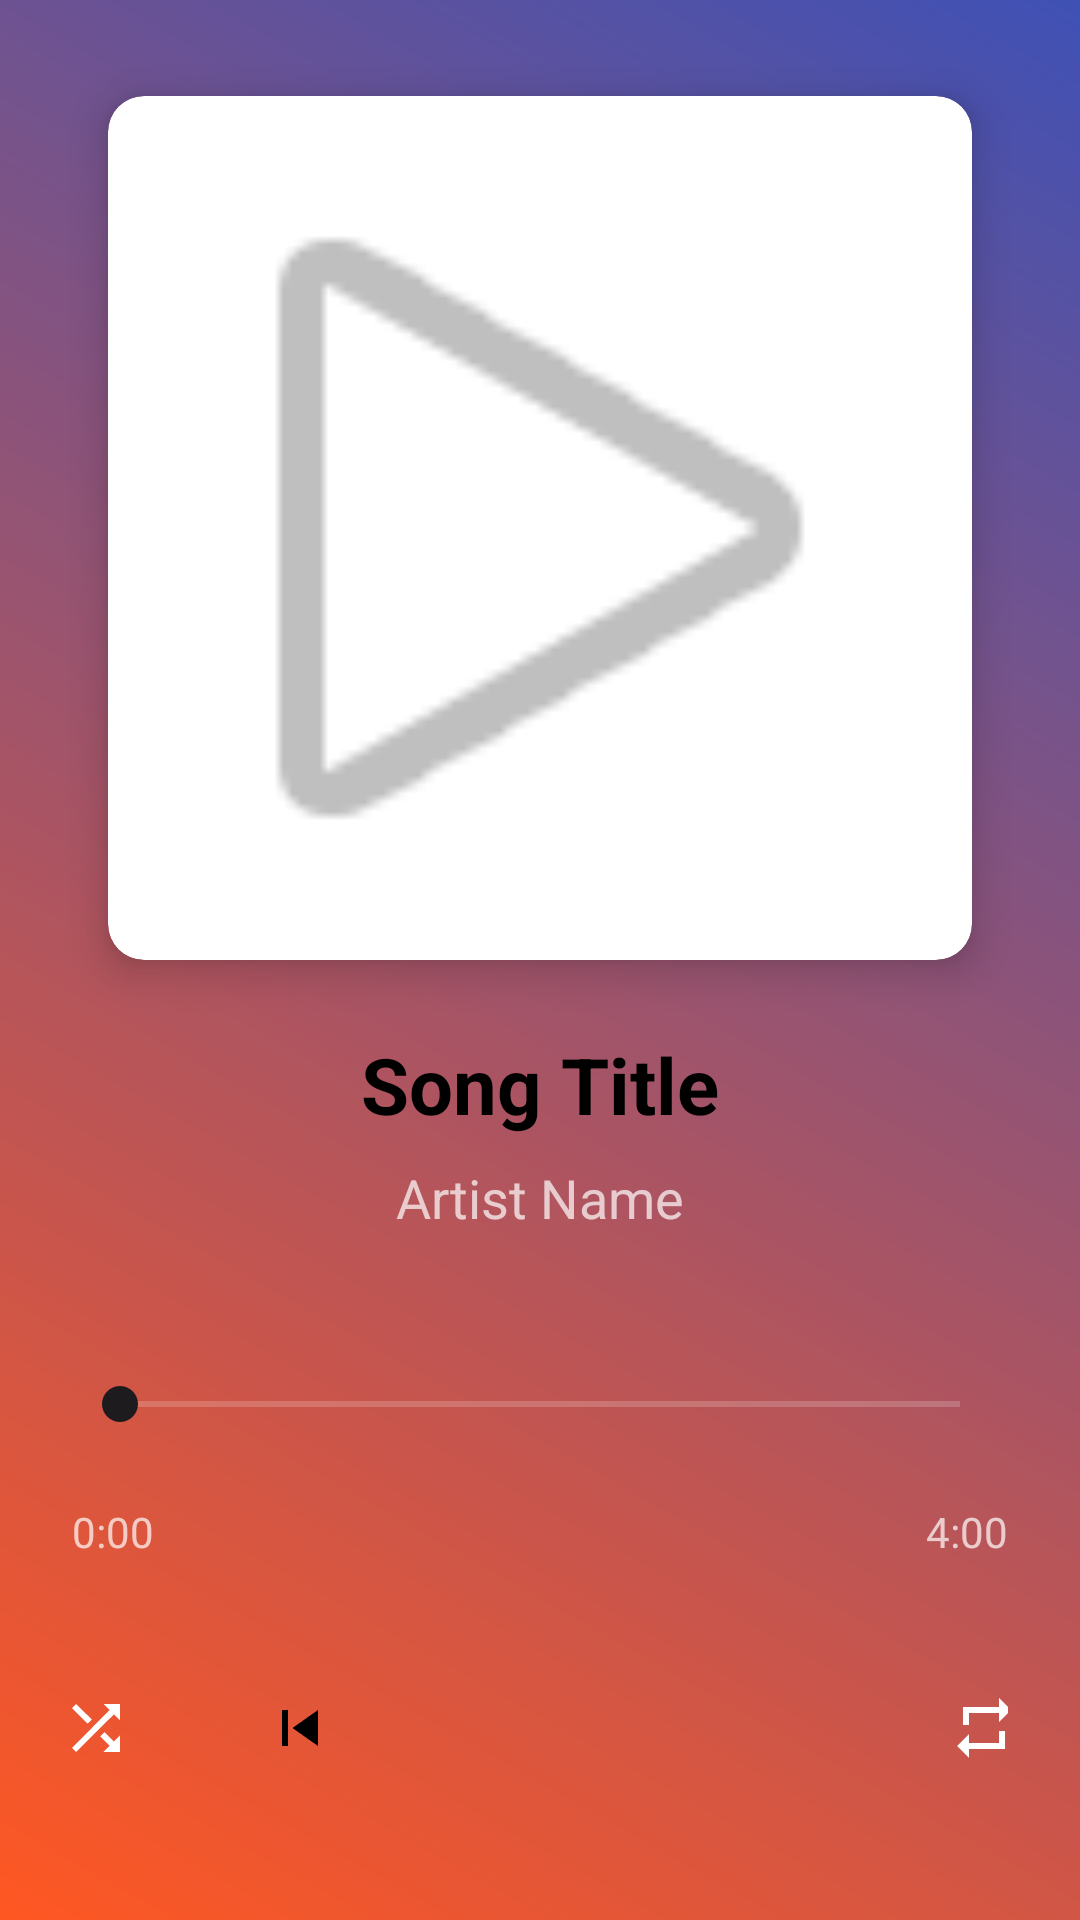

Icon click points for this 1080×1920 phone screenshot, format (x=x, y=y):
Previous: (x=300, y=1728)
Repeat: (x=982, y=1728)
Shuffle: (x=96, y=1728)
